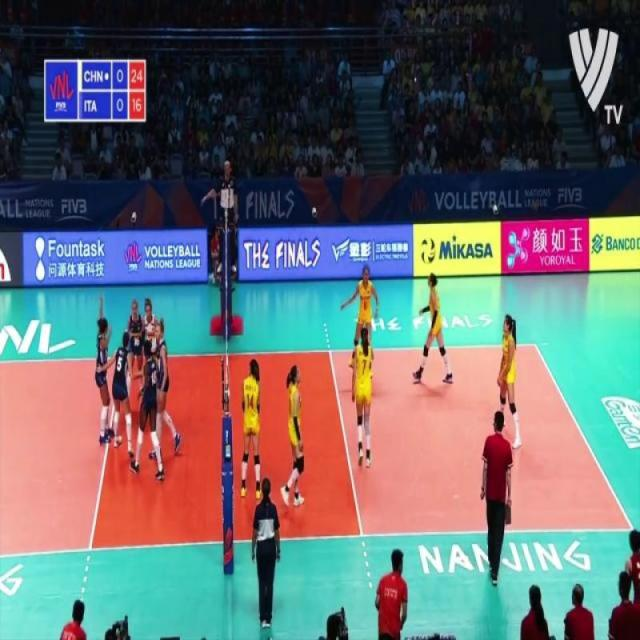volleyball: (418, 236, 438, 266)
